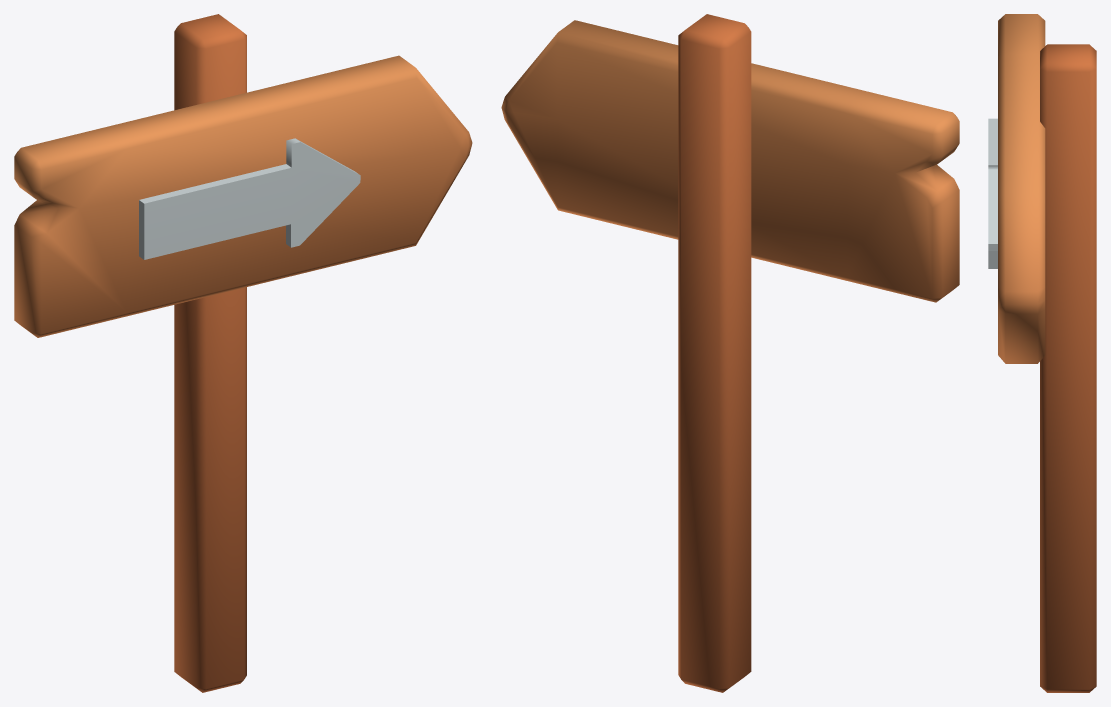
The model's file is sign_direction.fbx.
3 views of the same model, side by side, from view 1: azimuth 30°, elevation 25°; view 2: azimuth 150°, elevation 25°; view 3: azimuth 270°, elevation 25° (orthographic). The views are drawn at different scales.
Visible parts, largest first — view 1: sign_direction; view 2: sign_direction; view 3: sign_direction.
Part boxes in pixels (x1,y1,x2,y2): sign_direction: (14, 14, 472, 692); sign_direction: (501, 14, 959, 692); sign_direction: (988, 14, 1096, 692).
Size of the model in its own units: 0.7264 by 1.03 by 0.1606.
Materials: 1 (1 with a texture image).
